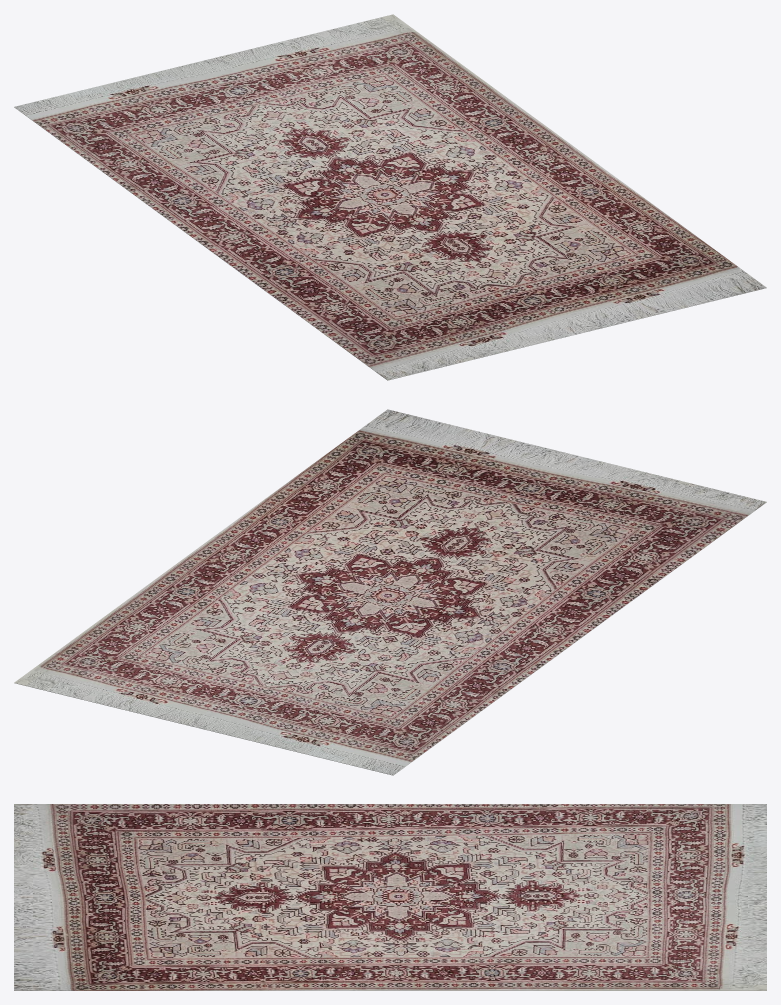
3 views of the same model, one above another, from view 1: azimuth 30°, elevation 25°; view 2: azimuth 150°, elevation 25°; view 3: azimuth 270°, elevation 25° (orthographic).
Bounding box in the file's own units: 1.4 × 0.00106 × 2.39.
1 material, 1 textured.
